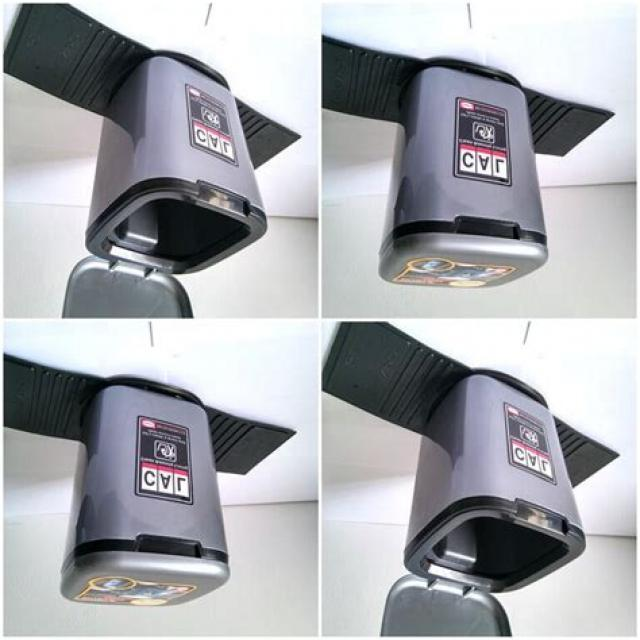garbage container: (349, 364, 640, 640), (347, 41, 615, 302), (45, 49, 299, 314), (58, 371, 272, 623)
